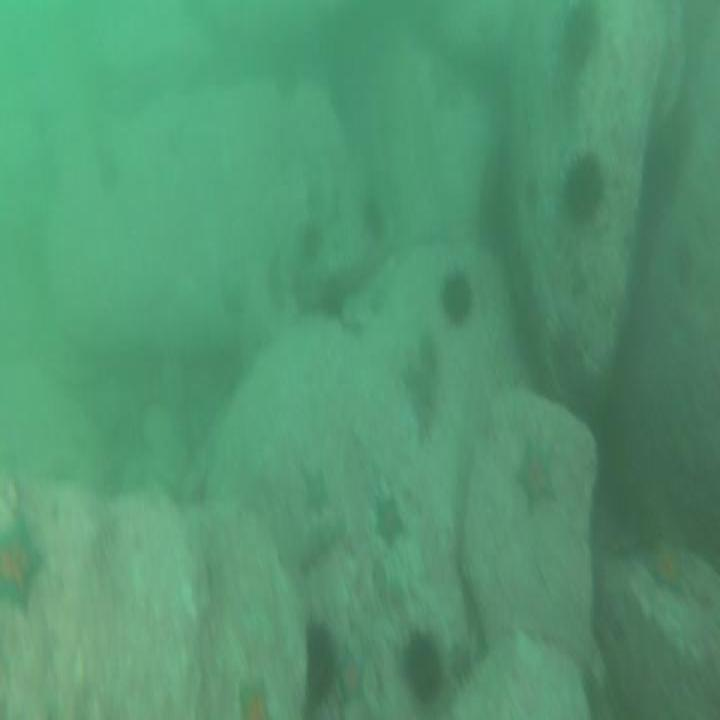echinus: (561, 146, 607, 234), (402, 626, 445, 708), (304, 620, 341, 710), (560, 0, 600, 71), (439, 265, 475, 331), (90, 140, 122, 196), (271, 57, 302, 105), (361, 192, 387, 245), (303, 215, 325, 267)
starfish: (0, 505, 46, 620), (513, 432, 561, 519), (640, 533, 692, 599), (370, 487, 408, 553), (299, 461, 333, 526), (336, 640, 365, 709), (236, 675, 273, 720), (446, 638, 477, 690)
